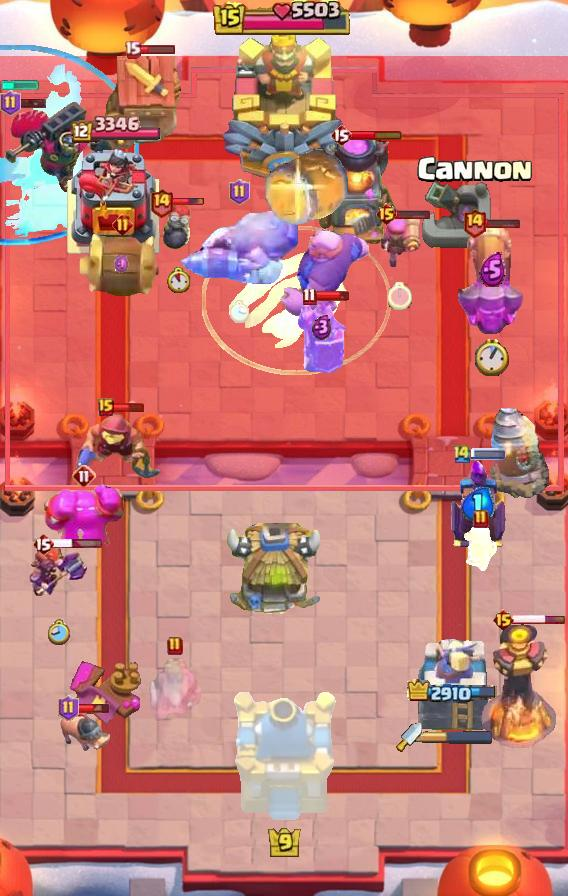balloon: (278, 227, 372, 319)
bar: (416, 637, 490, 731)
cannon: (464, 524, 498, 572)
clock: (213, 0, 355, 38)
clone: (41, 484, 127, 570)
dirt: (262, 148, 350, 228)
electro-dragon: (479, 622, 557, 748)
electro-spirit: (461, 487, 494, 521), (478, 252, 505, 287), (312, 314, 332, 340), (114, 254, 130, 274)
elixir: (475, 338, 509, 376), (388, 282, 412, 310), (49, 618, 72, 645), (166, 267, 189, 293), (229, 300, 249, 324)
elixir-golem-big: (295, 293, 349, 377)
emote: (350, 129, 403, 141), (512, 614, 566, 625), (51, 539, 103, 550), (10, 97, 47, 109), (395, 208, 431, 220), (485, 217, 521, 229), (314, 290, 350, 302), (470, 448, 506, 460), (76, 702, 112, 714), (139, 45, 177, 56), (111, 402, 145, 413), (171, 197, 205, 207)
executioner: (54, 704, 110, 752)
fireball: (73, 412, 163, 480)
furnace: (458, 222, 526, 334)
hunter: (313, 137, 401, 247)
ice-golem: (162, 200, 194, 250)
ice-spirit: (0, 78, 42, 90)
ice-spirit-evolution-symbol: (448, 457, 508, 549)
ice-wizard: (202, 225, 390, 374)
inferno-tower: (0, 99, 114, 195)
king-tower: (220, 21, 348, 181), (227, 692, 341, 826)
king-tower-bar: (422, 730, 494, 744)
magic-archer: (489, 407, 549, 499)
mortar-evolution: (146, 657, 204, 725)
pad_0: (0, 45, 140, 247)
prince: (224, 523, 326, 619)
queen-tower: (64, 146, 164, 256)
selected: (68, 115, 160, 144), (407, 678, 499, 705)
sparky: (101, 55, 187, 153)
tesla-evolution: (29, 541, 89, 599)
text: (149, 186, 174, 217), (462, 207, 486, 238), (72, 464, 96, 488), (374, 202, 397, 226), (493, 608, 516, 632), (229, 179, 250, 205), (57, 695, 78, 721), (330, 123, 352, 147), (32, 532, 54, 556), (0, 90, 20, 116), (112, 213, 133, 235), (452, 443, 472, 464), (123, 41, 140, 60), (473, 509, 489, 529), (167, 636, 183, 656), (98, 398, 114, 416), (303, 287, 318, 305)
the-log: (77, 232, 167, 300)
tombstone: (378, 210, 422, 270)
wizard: (176, 206, 302, 284)
